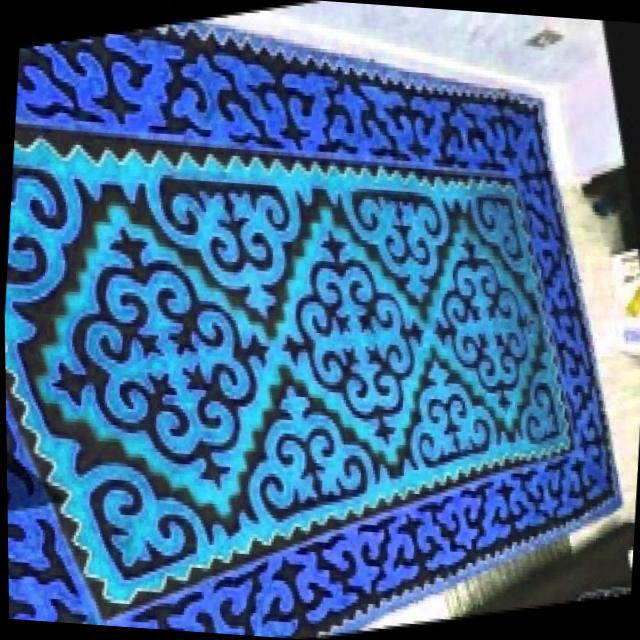Unity: (36, 206, 273, 505), (271, 214, 429, 452), (219, 366, 395, 542), (131, 190, 320, 325), (426, 229, 537, 422), (388, 348, 514, 492), (325, 190, 465, 311)
